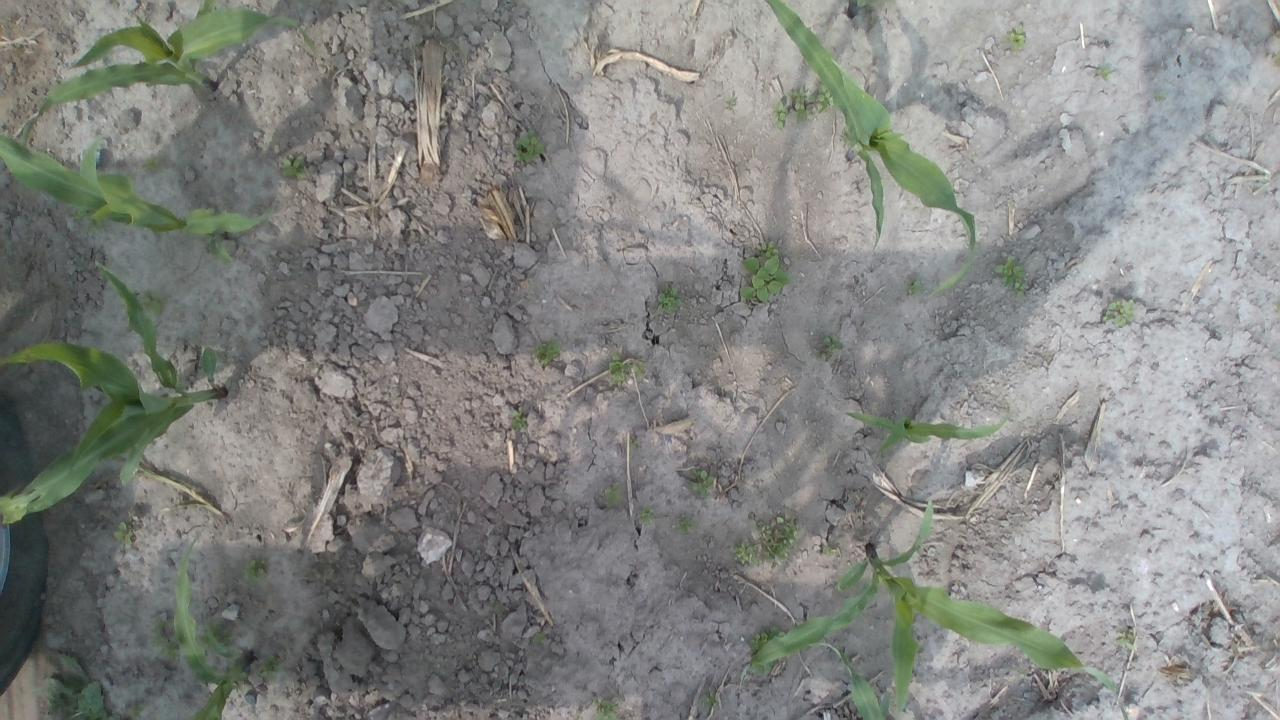Maize: (741, 498, 1122, 718), (760, 0, 980, 301), (3, 260, 231, 530), (34, 2, 316, 154), (0, 126, 278, 264), (156, 532, 256, 719), (847, 406, 1016, 450)
Weeds: (733, 512, 796, 570), (776, 85, 836, 126), (745, 248, 786, 302), (750, 626, 791, 666), (515, 132, 548, 169), (606, 353, 648, 381), (999, 257, 1030, 294), (130, 289, 162, 322), (1106, 298, 1134, 329), (687, 470, 714, 502), (278, 154, 310, 180), (816, 332, 844, 356), (598, 484, 622, 508), (658, 286, 682, 310), (534, 343, 562, 362), (112, 523, 134, 545), (142, 154, 166, 174), (595, 702, 618, 720), (1120, 629, 1138, 651), (1008, 27, 1025, 50), (250, 556, 264, 580), (818, 541, 836, 559), (1096, 62, 1114, 80), (907, 282, 924, 296), (638, 509, 656, 522), (701, 692, 716, 706), (512, 414, 526, 428), (727, 94, 737, 108), (1154, 92, 1167, 100)
